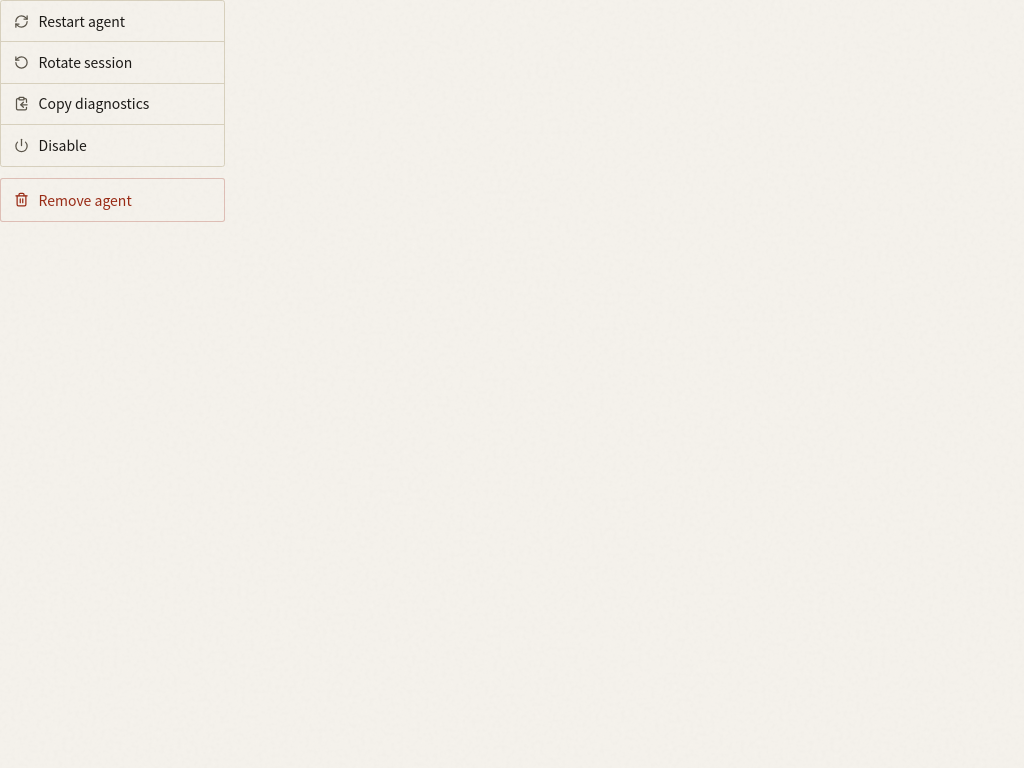
ProfileActionsRail (connected) › maps each confirm plate to its own dialog and effect for the route agent
What coordinates should you click on to do the following:
click the button "Rotate session"
I would click on:
 (112, 63)
Its box is [1, 42, 224, 84].
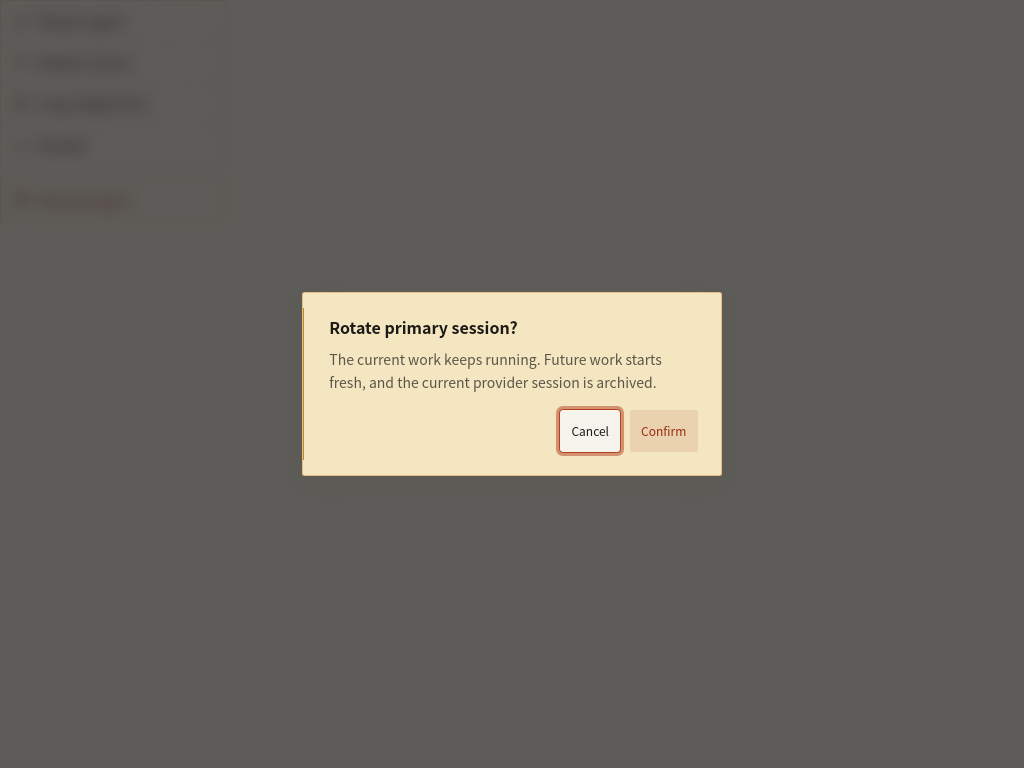
expect the button "Confirm" is shown: met
What coordinates should you click on to do the following:
click the button "Confirm"
I would click on:
 (664, 431)
Its box is [629, 409, 698, 453].
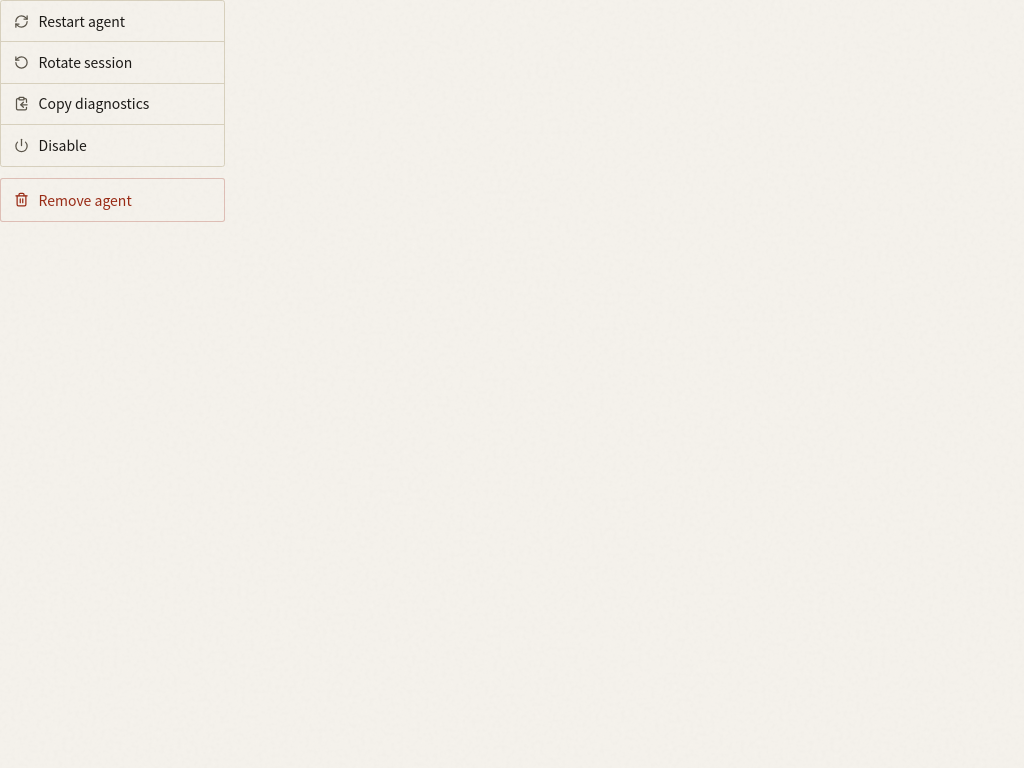
expect the text "Rotate primary session?" is gone: met
What coordinates should you click on to do the following:
click the button "Restart agent"
I would click on:
 (112, 22)
Its box is [1, 1, 224, 42].
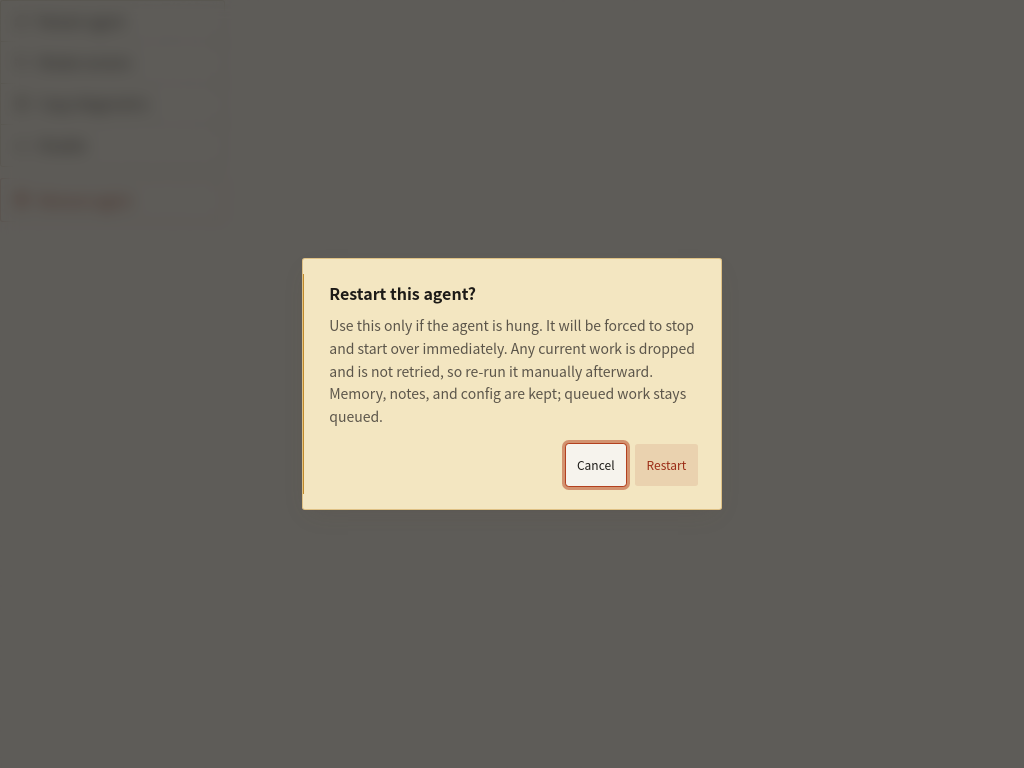
expect the button "Restart" is shown: met
What coordinates should you click on to do the following:
click the button "Restart"
I would click on:
 (666, 465)
Its box is [634, 443, 698, 487].
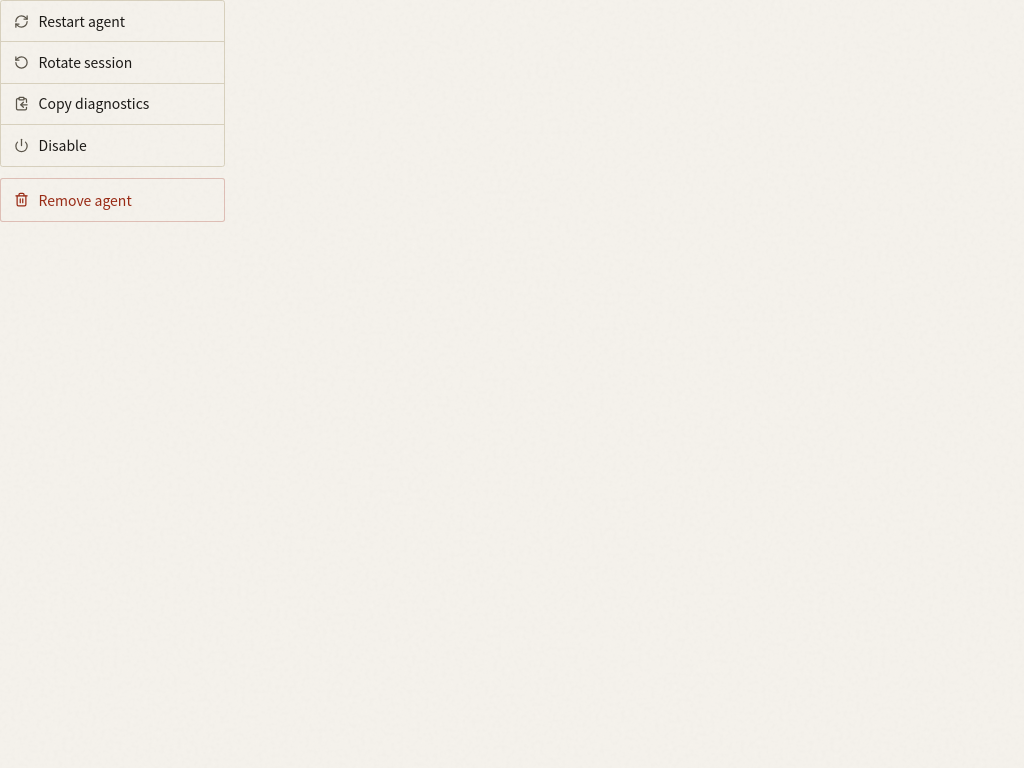
expect the text "Restart this agent?" is gone: met
What coordinates should you click on to do the following:
click the button "Remove agent"
I would click on:
 (112, 200)
Its box is [1, 179, 224, 221].
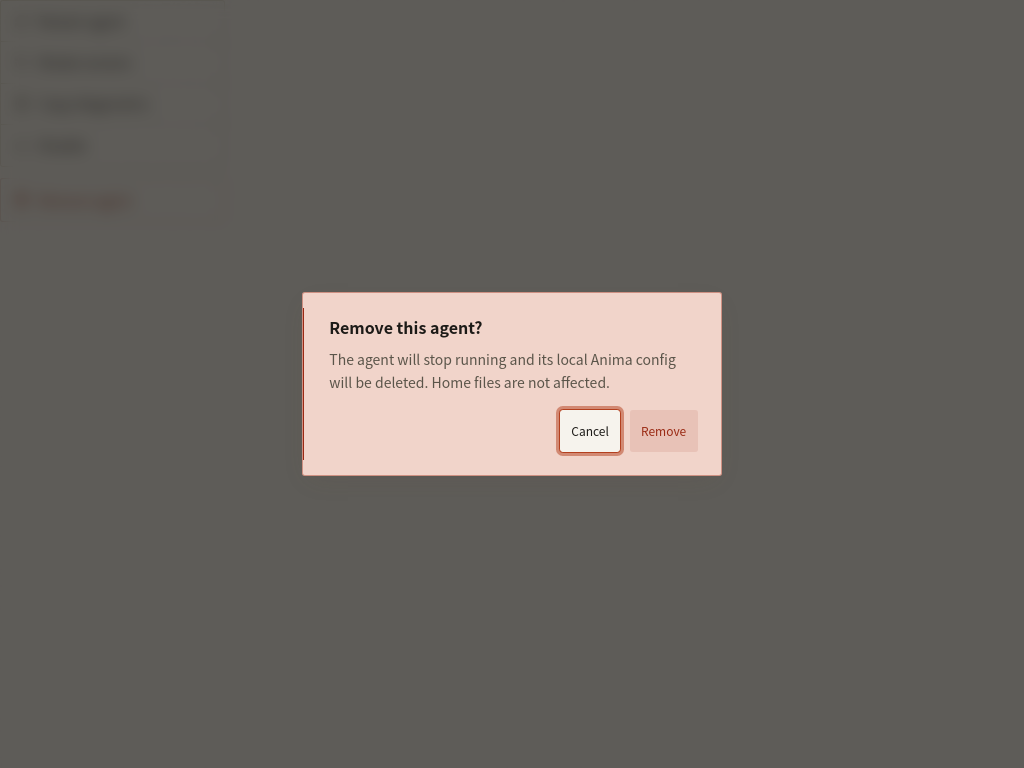
expect the button "Remove" is shown: met
What coordinates should you click on to do the following:
click the button "Remove"
I would click on:
 (664, 431)
Its box is [629, 409, 698, 453].
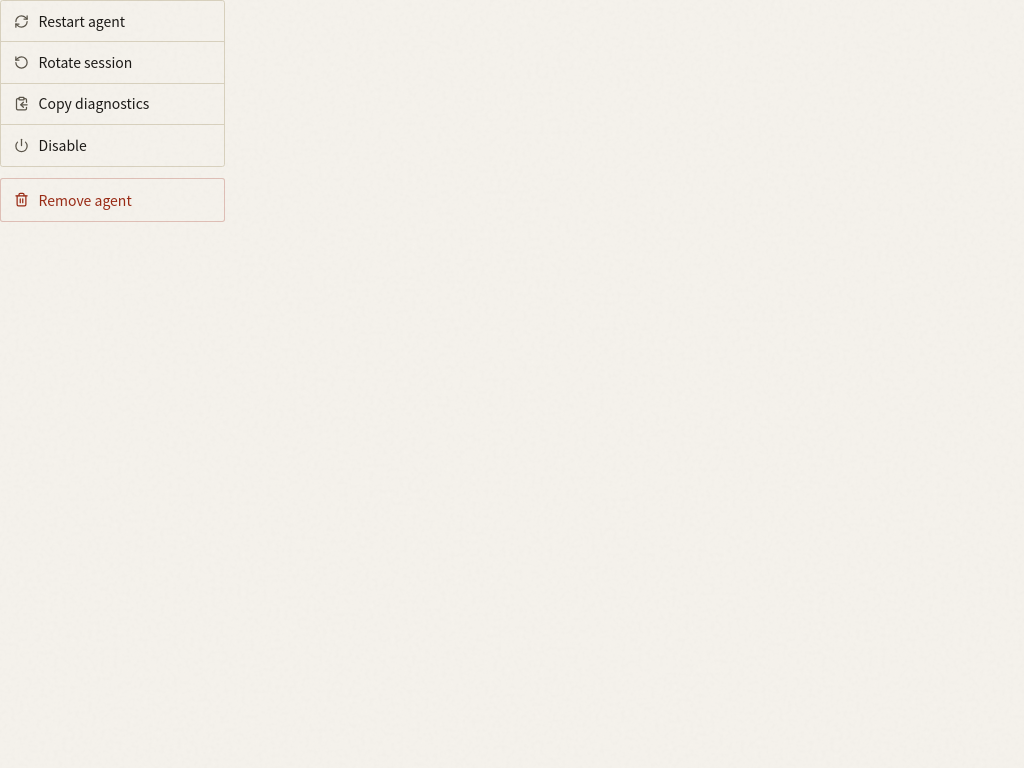
expect the text "Remove this agent?" is gone: met
